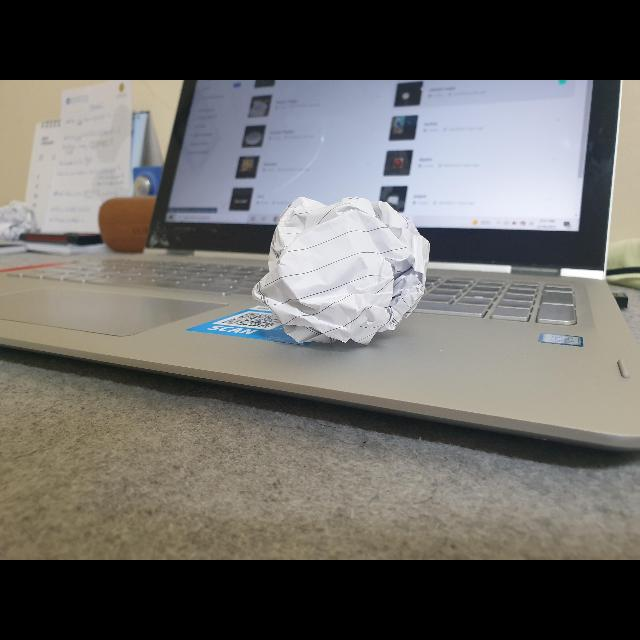scrap_paper: (250, 192, 444, 356)
